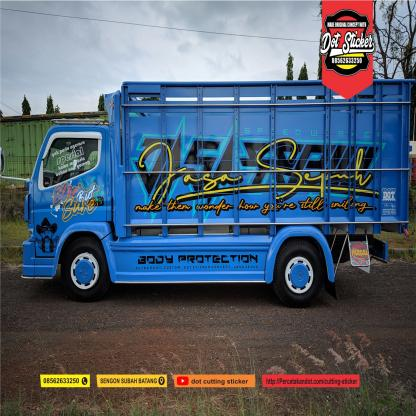truck: (23, 82, 410, 299)
